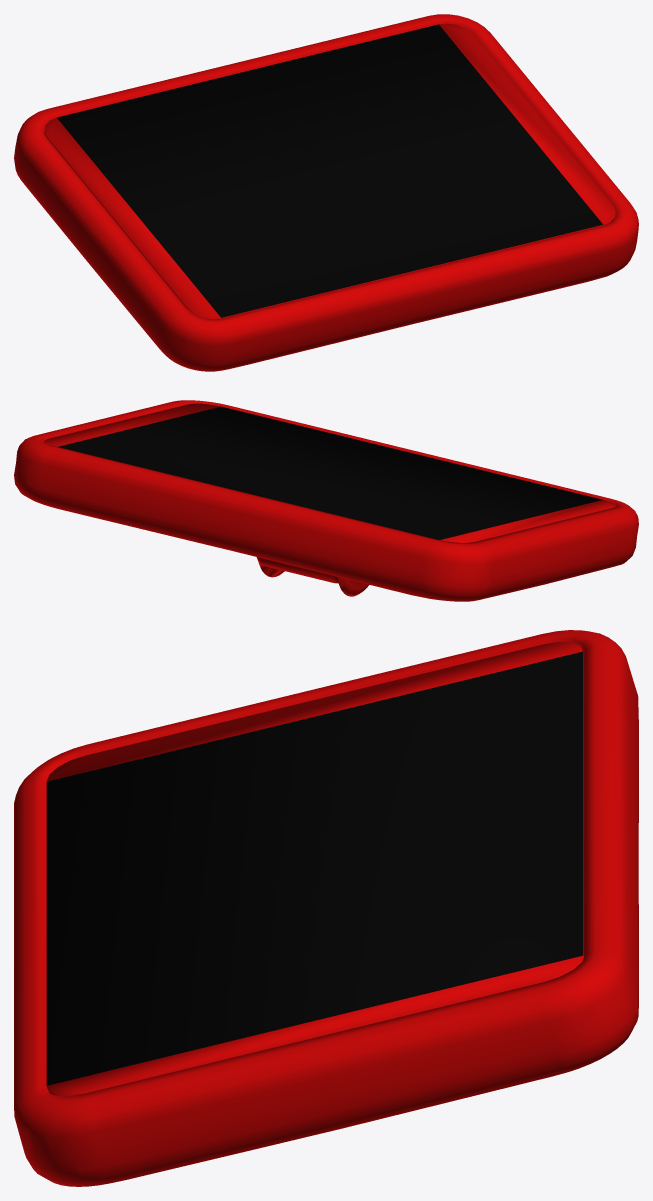
Rendered from H1_rotY90.dae.
The picture shows the model from 3 angles, top to bottom: view 1: azimuth 30°, elevation 25°; view 2: azimuth 150°, elevation 25°; view 3: azimuth 270°, elevation 25°; orthographic projection. The views are drawn at different scales.
Visible parts, largest first — view 1: H1; view 2: H1; view 3: H1.
Part boxes in pixels (left/top/right/bottom): H1: left=14, top=14, right=638, bottom=371; H1: left=14, top=400, right=638, bottom=601; H1: left=14, top=630, right=638, bottom=1186.
Bounding box in the file's own units: 0.2675 × 0.1887 × 0.0796.
